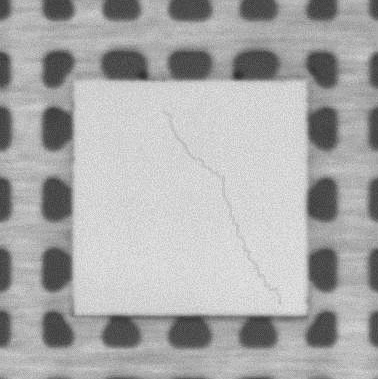DIE_CRACK: (164, 114, 279, 297)
